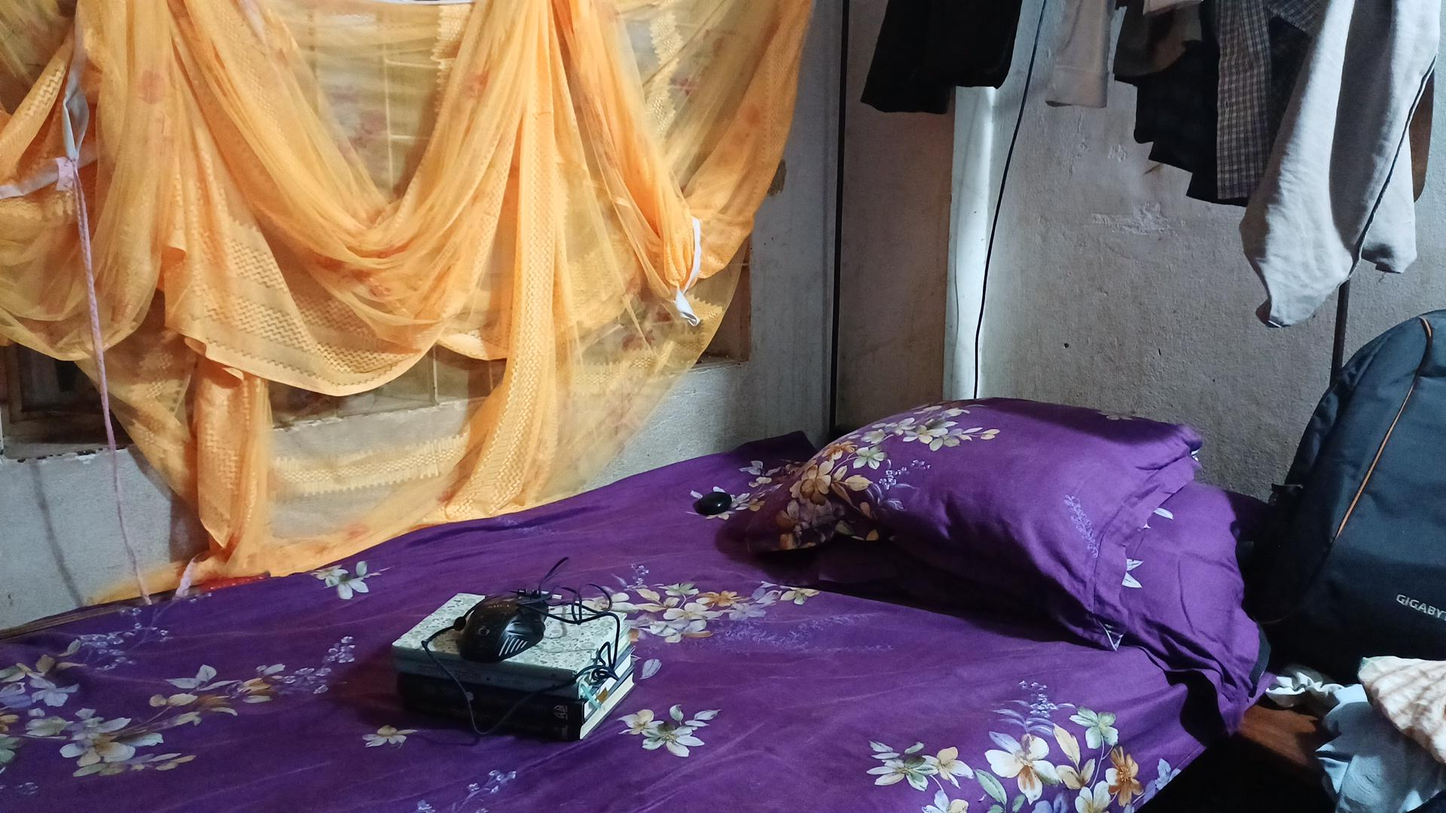Bag: (1310, 315, 1446, 625)
Book: (374, 653, 624, 748)
Mouse: (438, 574, 587, 663)
Pillow: (802, 360, 1229, 664)
